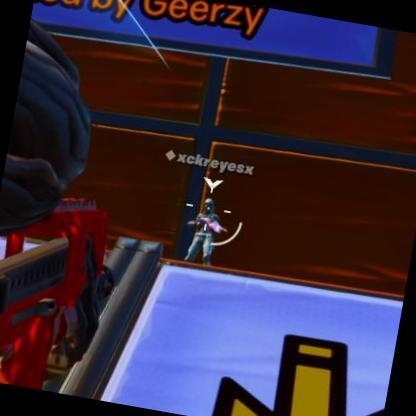person: (184, 195, 228, 268)
